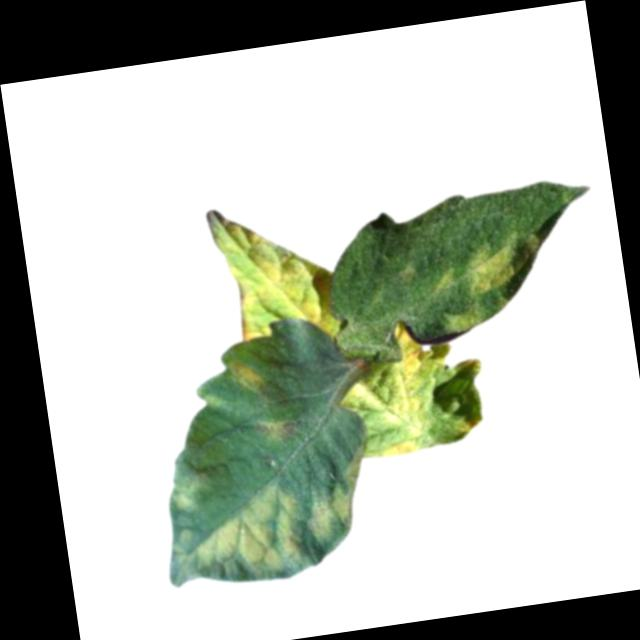Leaf_Mold: (167, 473, 358, 586), (206, 192, 345, 345), (329, 316, 449, 445), (461, 224, 546, 296), (168, 457, 214, 513), (440, 299, 492, 336), (230, 353, 270, 394), (256, 411, 302, 446), (380, 436, 422, 458)
